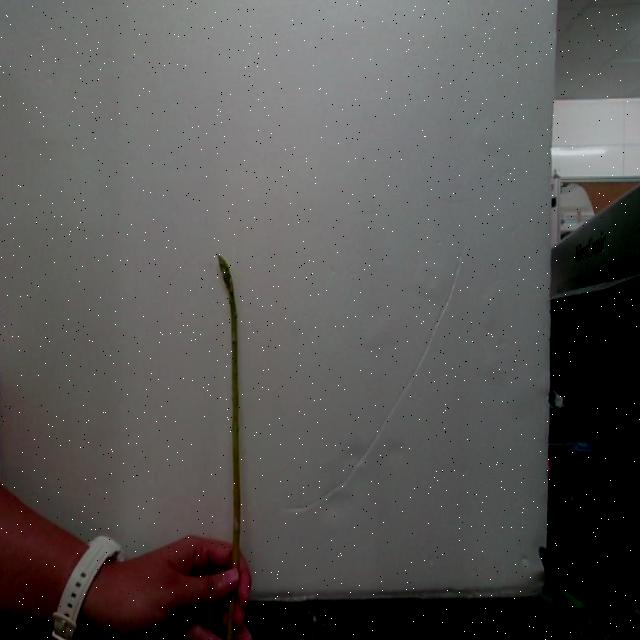aspargus: (217, 256, 243, 567)
